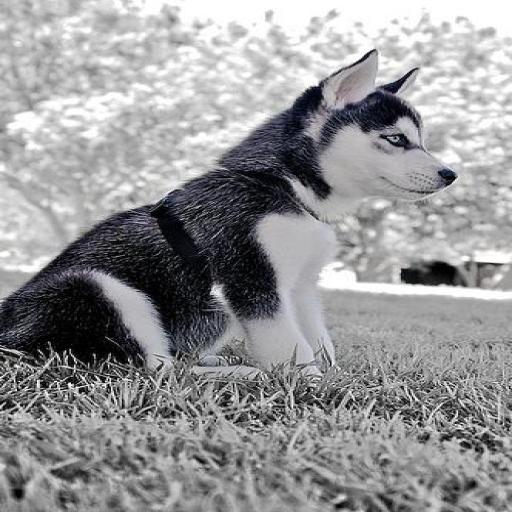dog_face: (250, 47, 442, 200)
